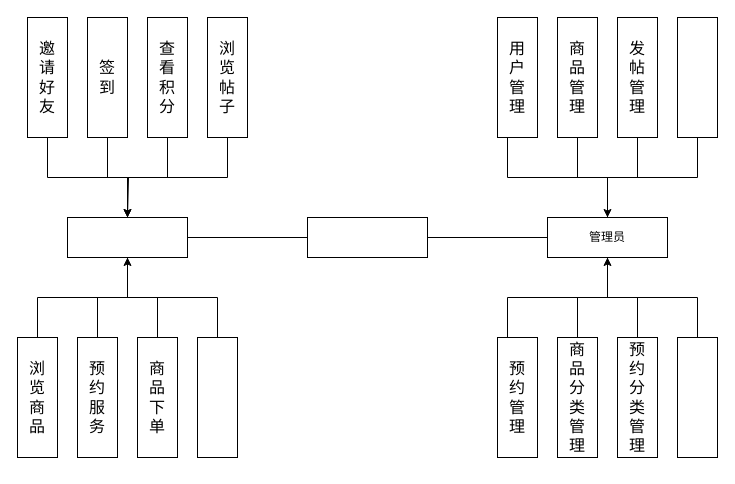
Some shapes in this 735 by 484 pixel diagram are drawn without their labels. Here are the shapes that lost their labels. From the top down, the centre of each, then its label:
[697,77]: 轮 播 图 管 理
[127,237]: 用户
[367,237]: 宠物商品与服务
[217,397]: 登 录 注 册
[697,397]: 积 分 管 理
